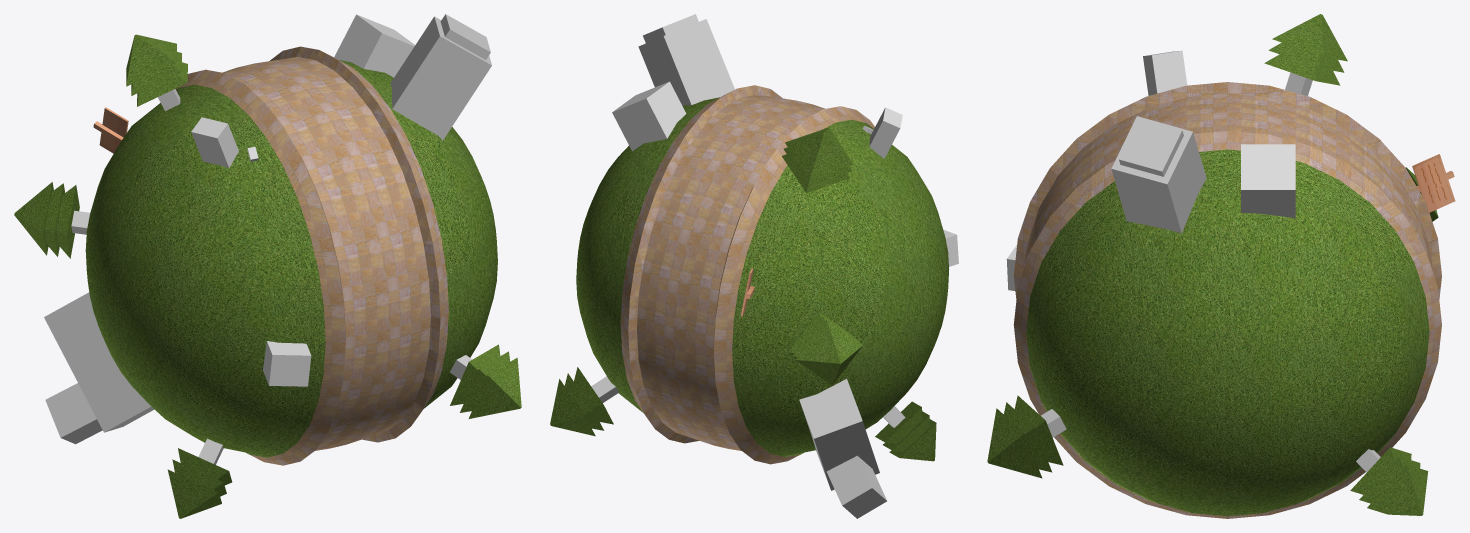
File: Title_Ball.fbx
3 views of the same model, side by side, from view 1: azimuth 30°, elevation 25°; view 2: azimuth 150°, elevation 25°; view 3: azimuth 270°, elevation 25° (orthographic). The views are drawn at different scales.
Parts seen in each view (by area): view 1: Sphere001, Box001, Box029, Box002, Box030, Box025, Box024, Box008, Box003, Box020, Box016, Box014 (+8 smaller); view 2: Sphere001, Box001, Box029, Box002, Box016, Box030, Box008, Box012, Box003, Box018, Box020, Box010 (+4 smaller); view 3: Sphere001, Box001, Box002, Box024, Box012, Box008, Box003, Box032, Box022, Box006, Box023, Box007 (+2 smaller).
Boxes of the visible parts, x1,y1,x2,y2 form: Sphere001: (85,46,497,465); Box001: (390,14,491,140); Box029: (44,292,154,432); Box002: (334,14,415,77); Box030: (45,383,102,444); Box025: (263,341,311,386); Box024: (468,357,521,418); Box008: (126,34,176,86); Box003: (191,117,238,167); Box020: (167,469,221,518); Box016: (14,182,53,255); Box014: (56,185,79,258); Sphere001: (576,85,949,464); Box001: (638,14,734,106); Box029: (799,379,879,490); Box002: (612,81,686,151); Box016: (796,319,862,385); Box030: (826,455,886,518); Box008: (785,127,853,179); Box012: (550,379,595,436); Box003: (869,107,902,158); Box018: (875,401,922,444); Box020: (889,419,936,461); Box010: (574,367,613,424); Sphere001: (1013,82,1441,518); Box001: (1111,116,1206,233); Box002: (1241,144,1295,218); Box024: (987,408,1042,478); Box012: (1367,464,1428,515); Box008: (1272,14,1347,61); Box003: (1143,50,1187,95); Box032: (1412,154,1455,212); Box022: (1014,395,1063,465); Box006: (1264,54,1340,85); Box023: (1003,402,1052,472); Box007: (1268,42,1344,72).
Size of the model in its own units: 406 by 429 by 456.
